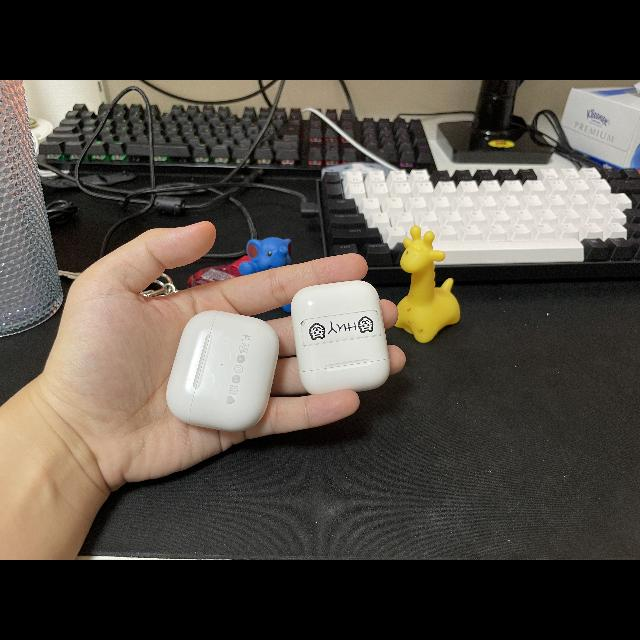airpod2: (285, 276, 399, 398)
airpod3: (161, 300, 283, 440)
